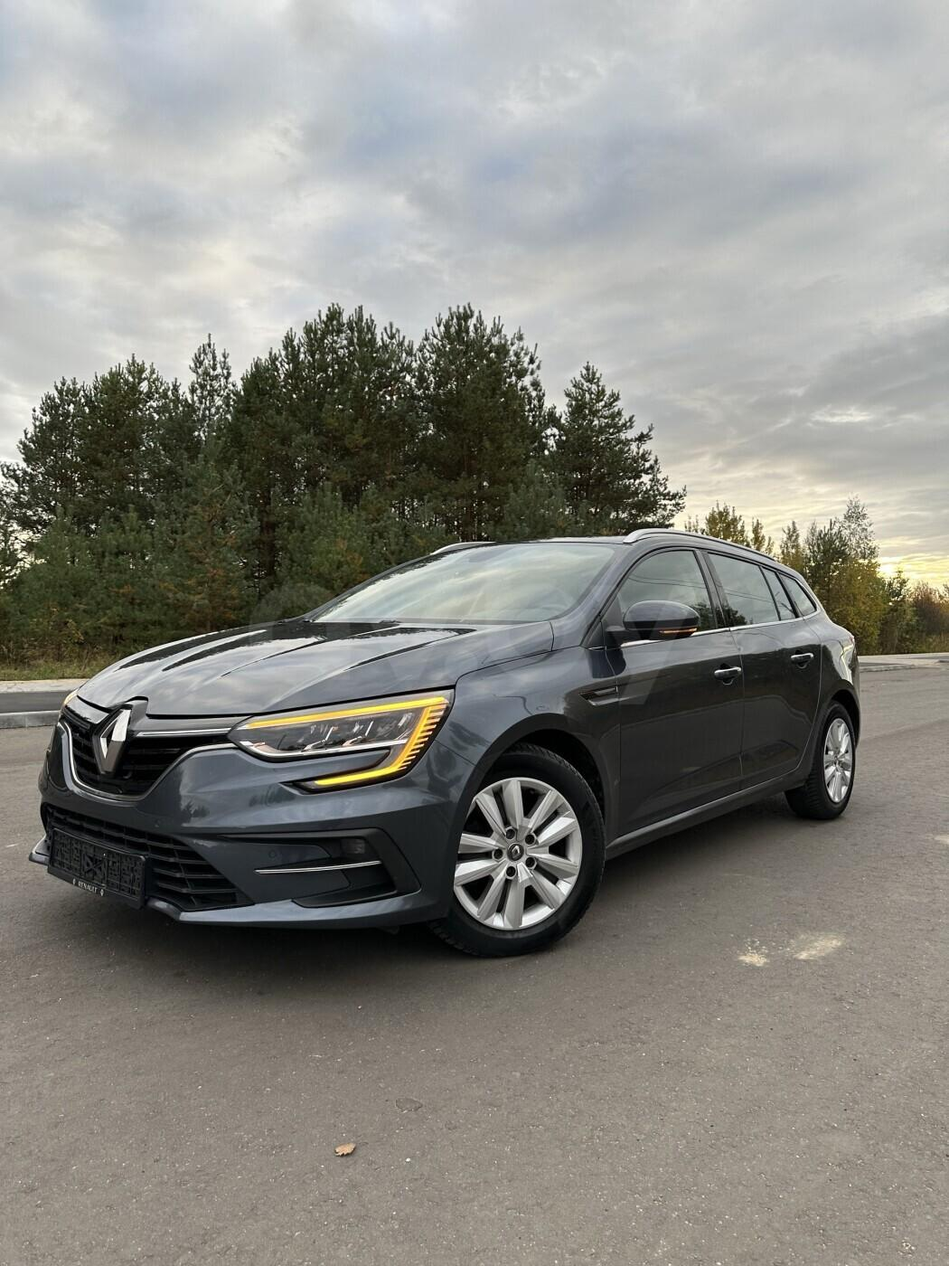Megane_2020: (29, 532, 862, 966)
